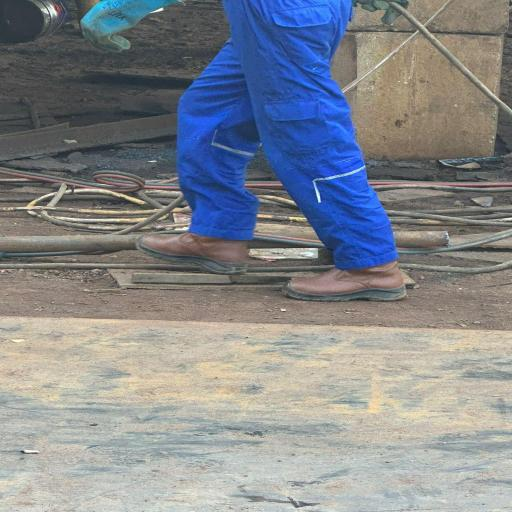safety_shoe: (288, 258, 422, 302), (142, 228, 255, 277)
